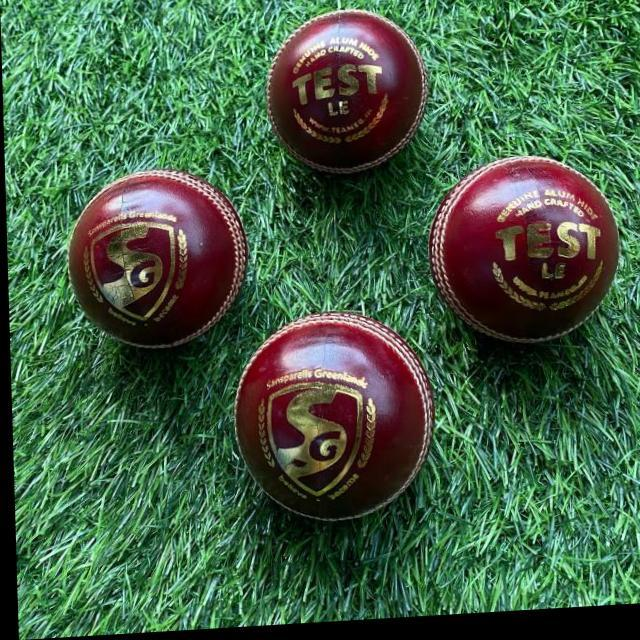cricket ball: (233, 315, 432, 526), (427, 162, 619, 350), (66, 170, 246, 350), (267, 13, 429, 177)
